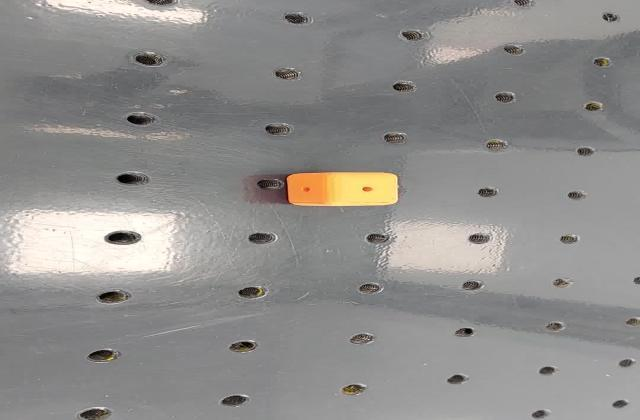cube: (278, 170, 406, 208)
